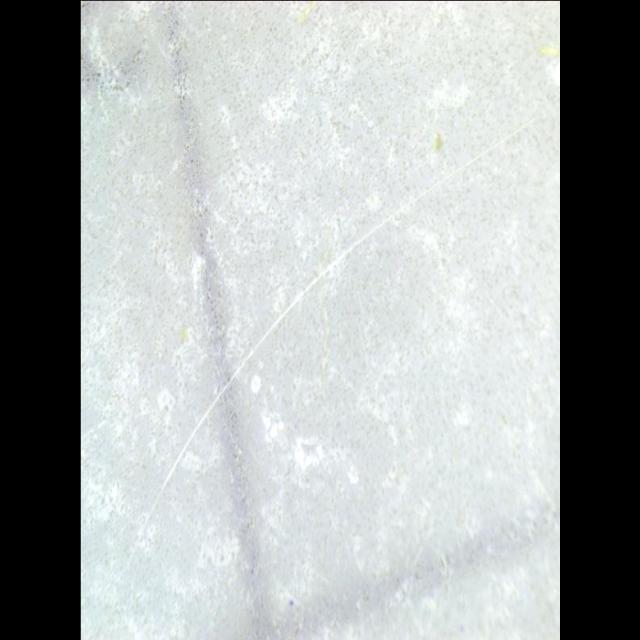Fibre: (124, 102, 542, 568)
